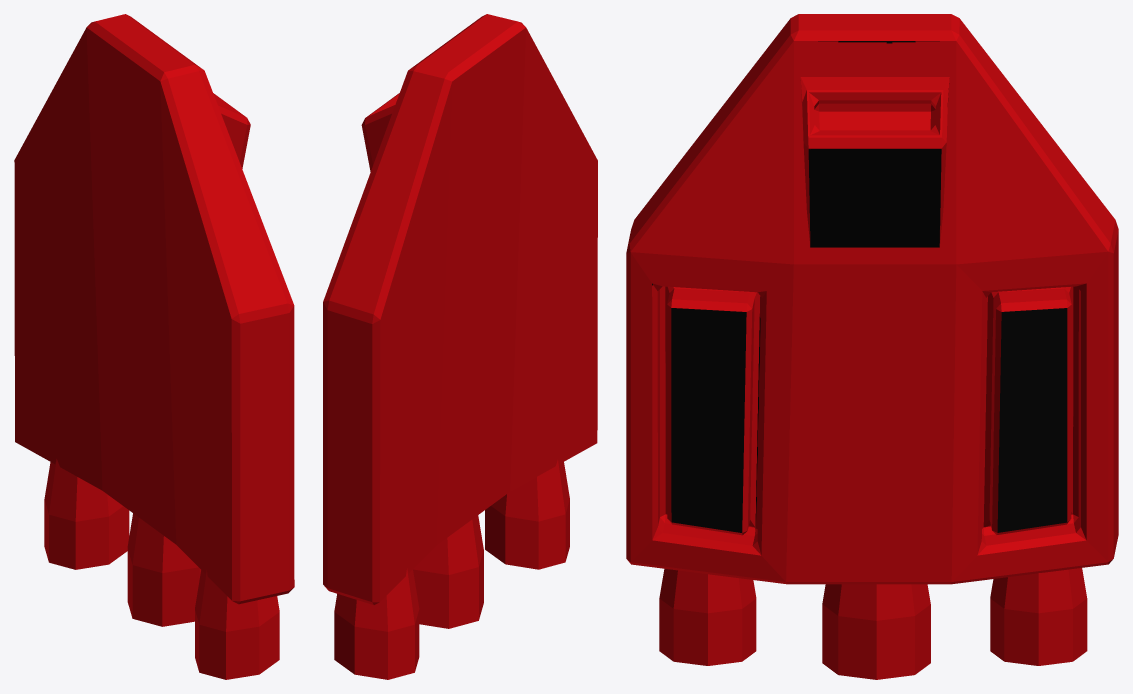
File: RedShip51.fbx
3 views of the same model, side by side, from view 1: azimuth 30°, elevation 25°; view 2: azimuth 150°, elevation 25°; view 3: azimuth 270°, elevation 25° (orthographic). The views are drawn at different scales.
Visible parts, largest first — view 1: Circle.001; view 2: Circle.001; view 3: Circle.001.
Boxes of the visible parts, x1=… form: Circle.001: x1=14, y1=14, x2=294, y2=679; Circle.001: x1=323, y1=14, x2=597, y2=679; Circle.001: x1=626, y1=14, x2=1118, y2=679.
Bounding box in the file's own units: 31.37 × 177 × 125.
Materials: 1 (1 with a texture image).
